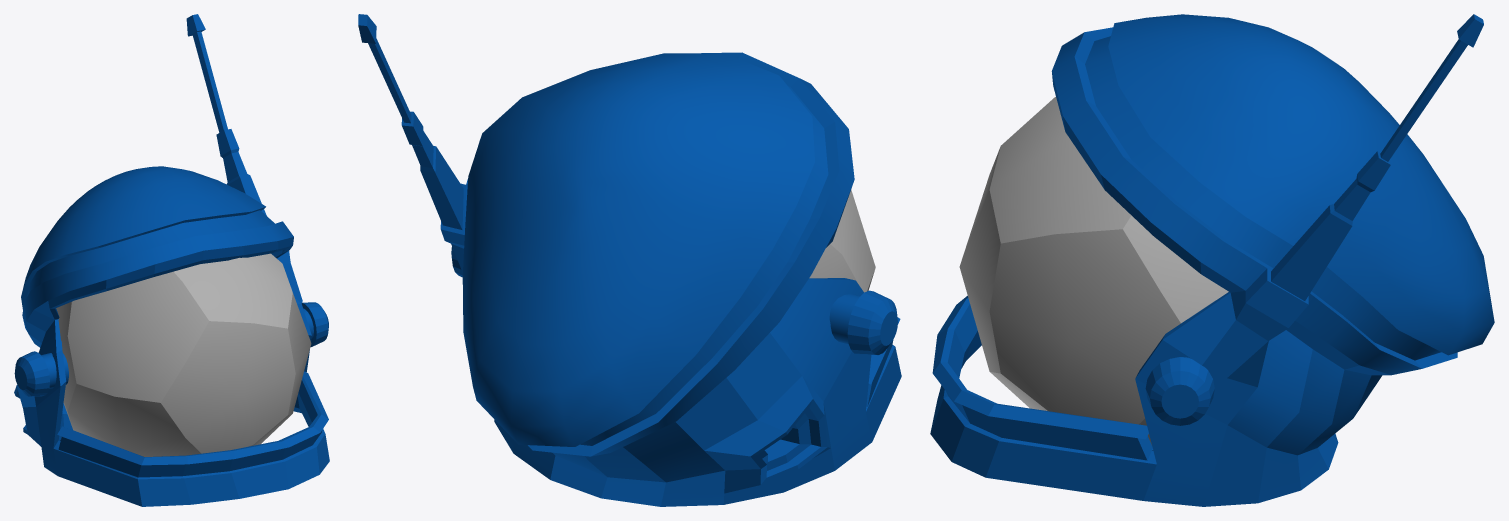
Rendered from Hero_head.fbx.
3 renders of one model, left to right at view 1: azimuth 30°, elevation 25°; view 2: azimuth 150°, elevation 25°; view 3: azimuth 270°, elevation 25°, orthographic. The views are drawn at different scales.
Parts seen in each view (by area): view 1: pPlatonic2; view 2: pPlatonic2; view 3: pPlatonic2.
Boxes of the visible parts, x1,y1,x2,y2 form: pPlatonic2: (14,14,329,506); pPlatonic2: (358,14,901,506); pPlatonic2: (930,14,1494,506).
Size of the model in its own units: 7.7 by 8.48 by 8.31.
